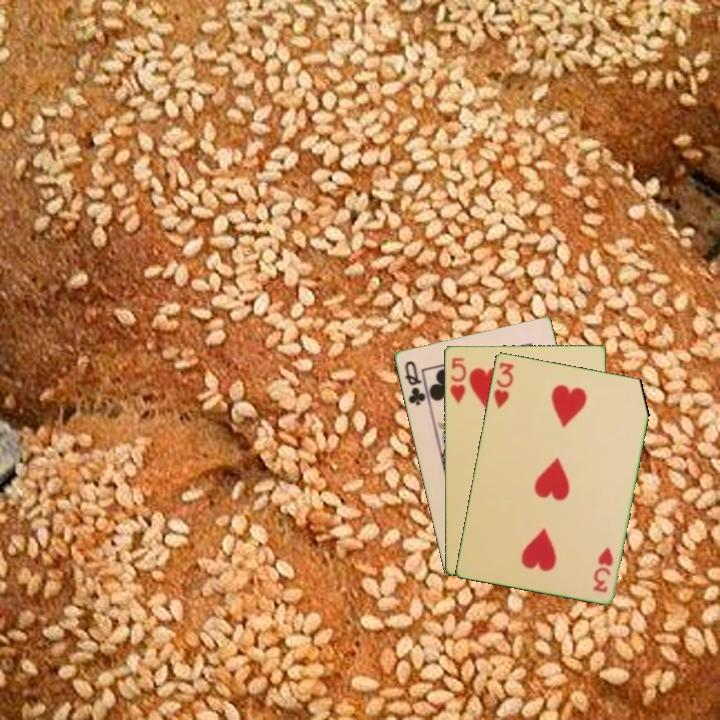3h: (490, 358, 517, 411), (589, 543, 616, 595)
5h: (446, 354, 469, 406)
Qc: (401, 357, 431, 408)
